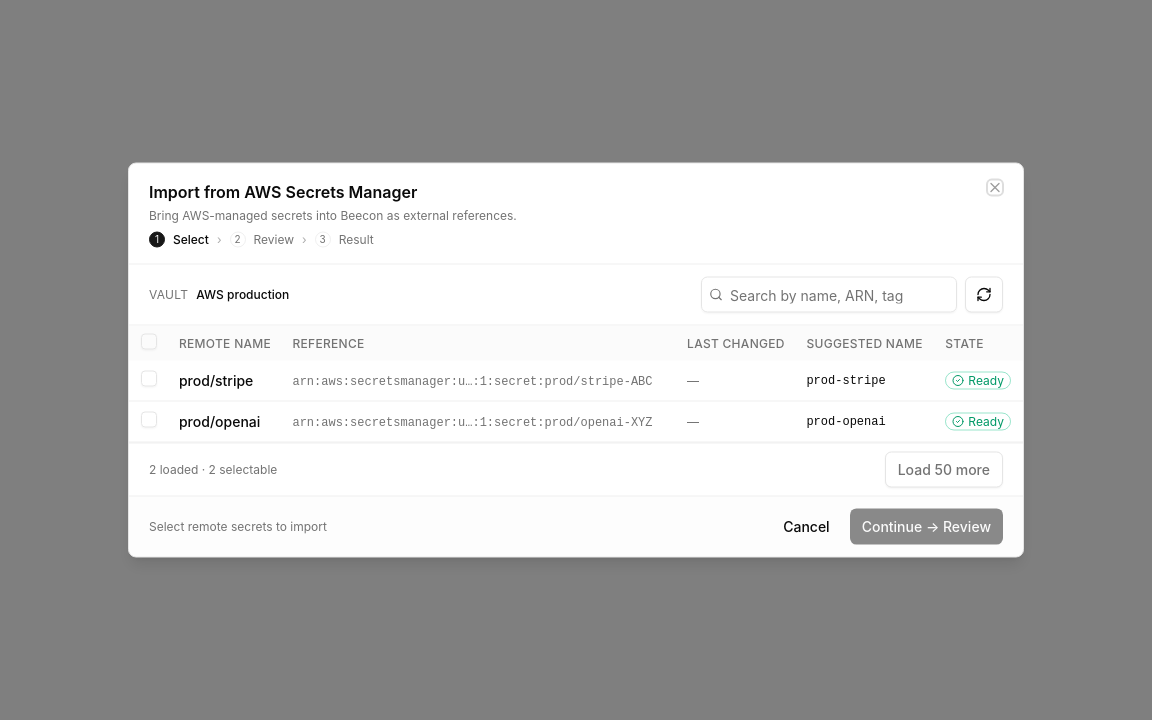
it: ImportFromVaultDialog › loads candidates and selects rows, persisting through pagination
The width and height of the screenshot is (1152, 720).
Later steps or results of the test are not shown.
Check: the table with test id "vault-table-body" is shown, box [129,360,1023,442]
Click the row with test id "vault-row-arn:aws:secretsmanager:us-east-1:1:secret:prod/stripe-ABC" at (576, 381), box [129,360,1023,401]
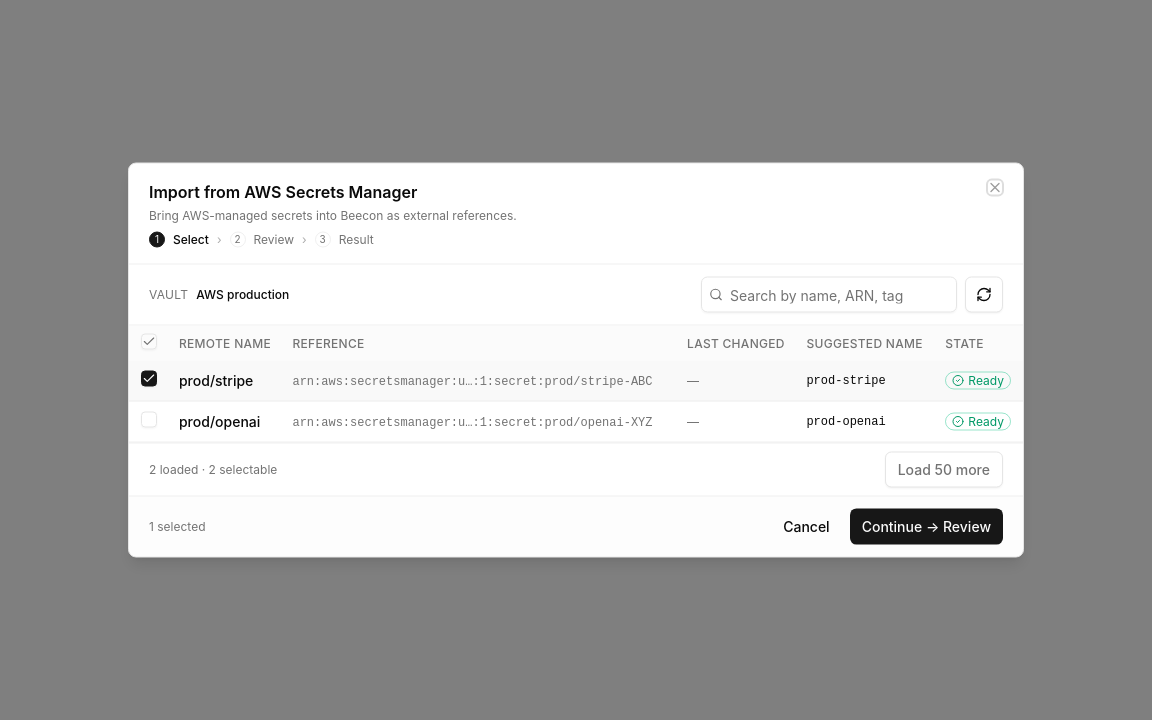
Check: the button with test id "vault-load-more" is shown, box [885,452,1003,488]
Check: the text "1 selected" is shown, box [149,518,206,534]
